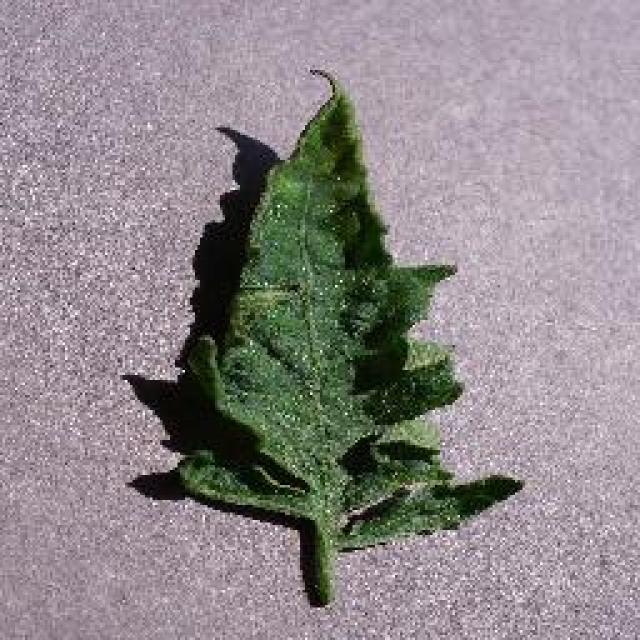Tomato___Tomato_mosaic_virus: (178, 78, 518, 602)
